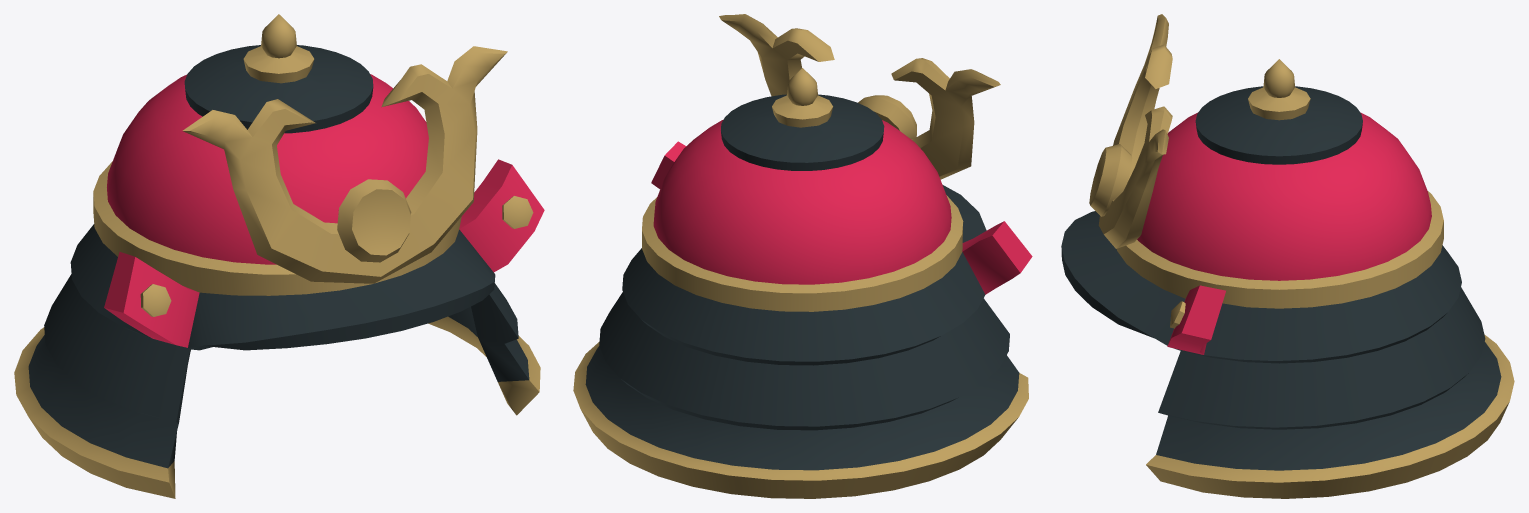
The model's file is samurai_helmet_red.gltf.glb.
The picture shows the model from 3 angles, left to right: view 1: azimuth 30°, elevation 25°; view 2: azimuth 150°, elevation 25°; view 3: azimuth 270°, elevation 25°; orthographic projection. The views are drawn at different scales.
Visible parts, largest first — view 1: samurai_helmet_red; view 2: samurai_helmet_red; view 3: samurai_helmet_red.
Part boxes in pixels (box(x1,y1,x2,y2)): samurai_helmet_red: box(14, 14, 544, 498); samurai_helmet_red: box(573, 14, 1032, 498); samurai_helmet_red: box(1061, 14, 1514, 498).
Size of the model in its own units: 1.61 by 1.32 by 1.56.
